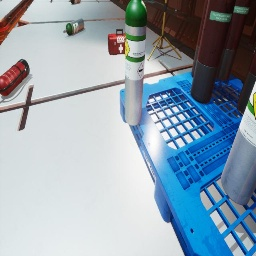0: (221, 81, 256, 205), (125, 0, 147, 126), (63, 18, 84, 36), (69, 0, 81, 4)
FireExtinguisher ]: (0, 59, 30, 96)
FirstAidBox ,: (108, 29, 125, 55)
NitrogenTank ,: (191, 0, 236, 104), (216, 0, 252, 80), (191, 0, 208, 78), (237, 47, 256, 114)
